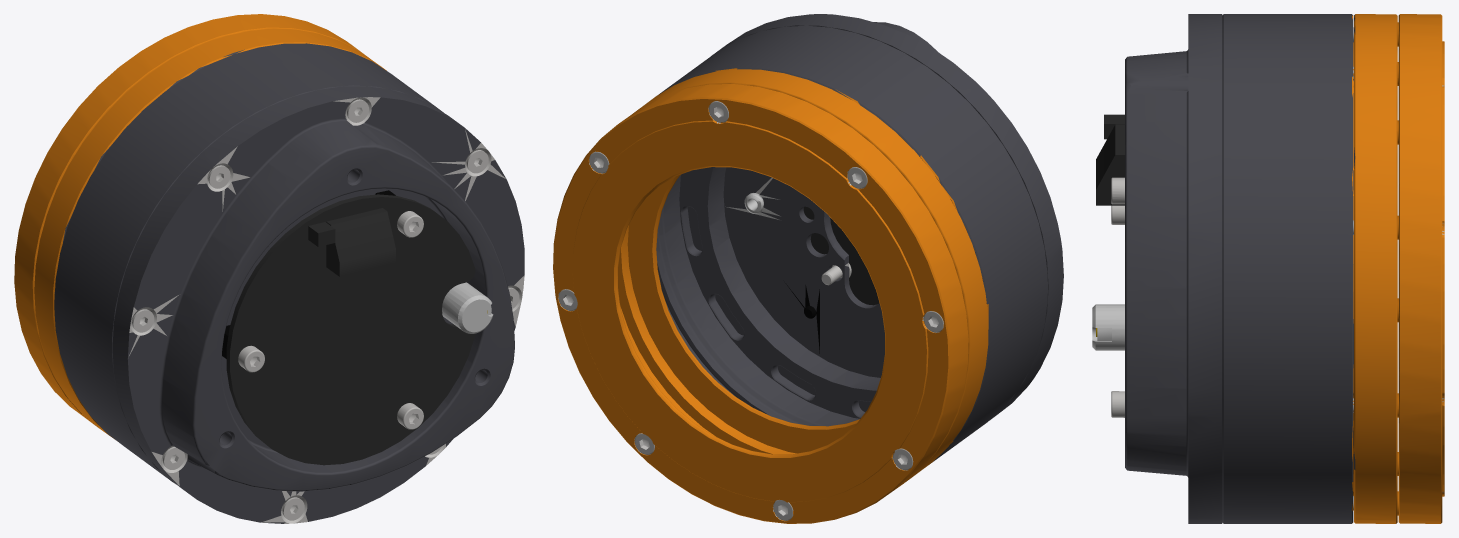
File: motor1.glb
The picture shows the model from 3 angles, left to right: view 1: azimuth 30°, elevation 25°; view 2: azimuth 150°, elevation 25°; view 3: azimuth 270°, elevation 25°; orthographic projection. The views are drawn at different scales.
Parts seen in each view (by area): view 1: m3, m1, m2, m4, m5; view 2: m2, m3, m4, m1; view 3: m3, m2, m1, m5, m4.
Part boxes in pixels (x1=…): m3: x1=54, y1=43, x2=524, y2=523; m1: x1=226, y1=194, x2=475, y2=465; m2: x1=14, y1=14, x2=386, y2=439; m4: x1=129, y1=97, x2=524, y2=523; m5: x1=442, y1=282, x2=493, y2=333; m2: x1=553, y1=68, x2=988, y2=523; m3: x1=656, y1=14, x2=1063, y2=461; m4: x1=558, y1=101, x2=943, y2=520; m1: x1=803, y1=206, x2=879, y2=305; m3: x1=1125, y1=14, x2=1355, y2=523; m2: x1=1352, y1=14, x2=1444, y2=523; m1: x1=1096, y1=114, x2=1124, y2=205; m5: x1=1092, y1=304, x2=1124, y2=350; m4: x1=1111, y1=27, x2=1444, y2=510.
Bounding box in the file's own units: 0.105 × 0.105 × 0.0726.
